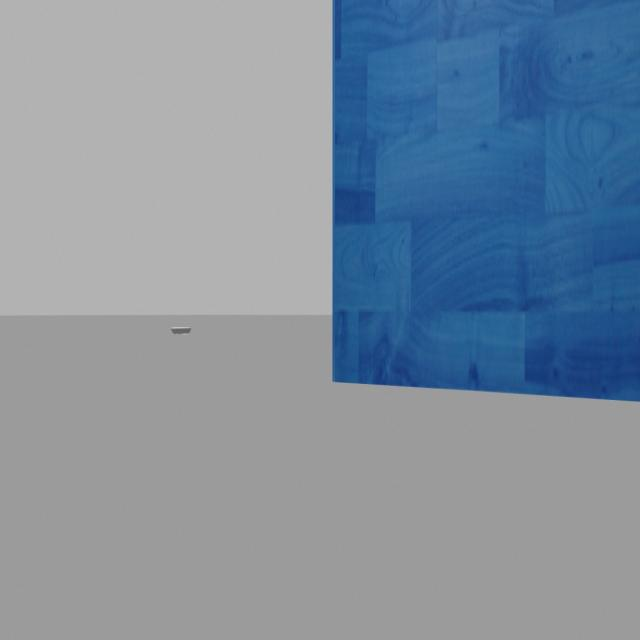bowl: (156, 315, 212, 346)
shelf: (323, 0, 640, 407)
